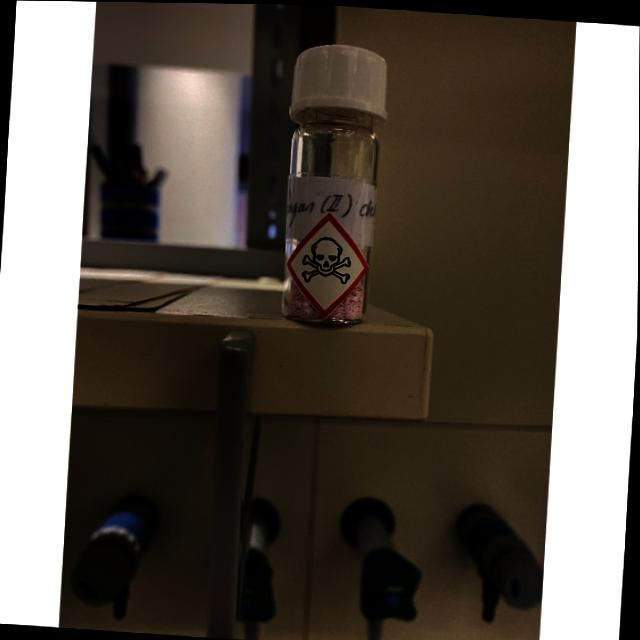acute toxicity: (299, 236, 355, 287)
